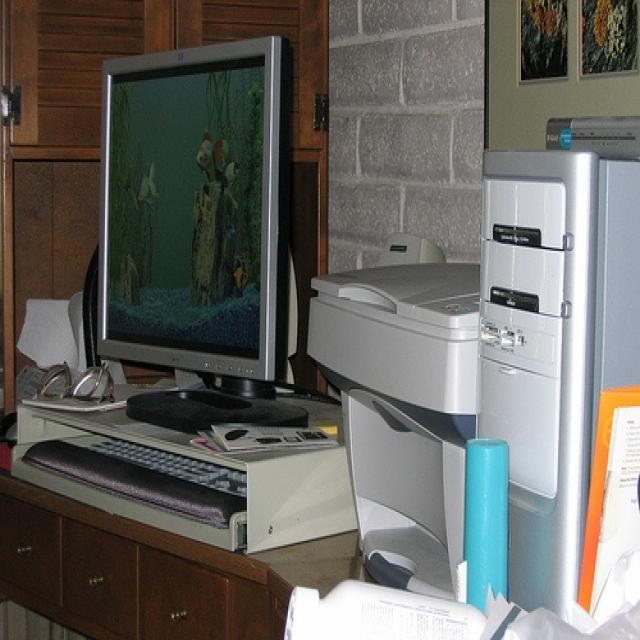tvmonitor: (97, 29, 310, 434)
